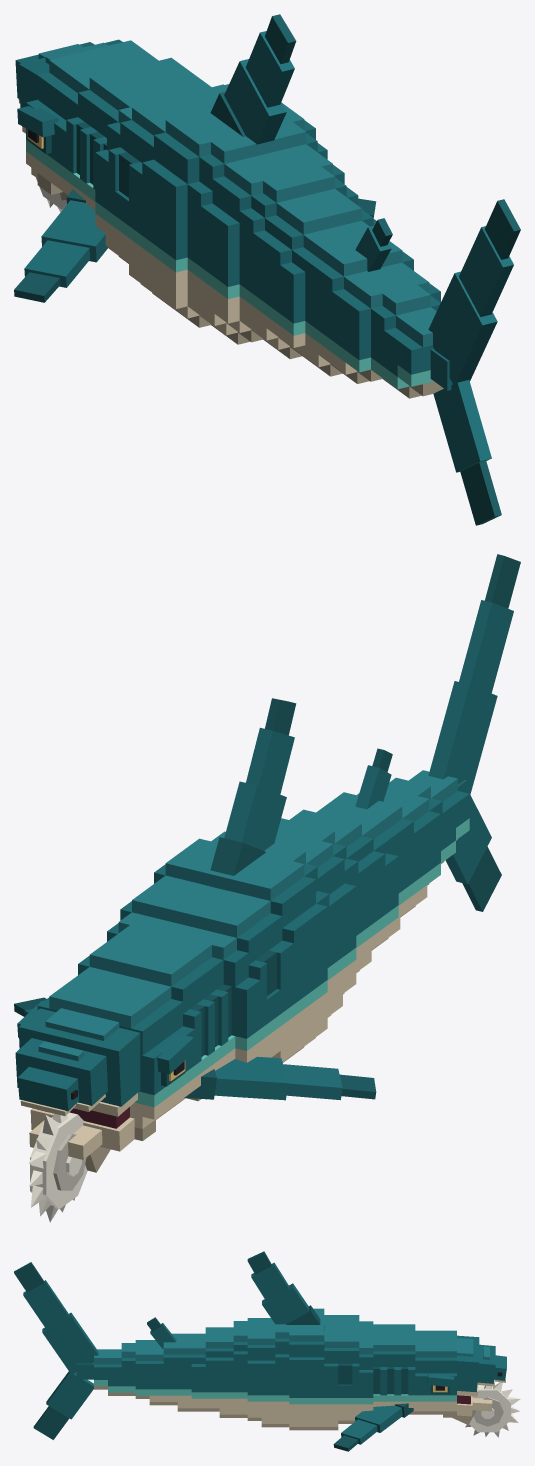
File: Helicoprion.obj
3 renders of one model, top to bottom at view 1: azimuth 30°, elevation 25°; view 2: azimuth 150°, elevation 25°; view 3: azimuth 270°, elevation 25°, orthographic. The views are drawn at different scales.
Parts seen in each view (by area): view 1: S4, Tail, S1, Head, S6, S5, S3, S7, S9, S8, S10, S11 (+1 smaller); view 2: Head, S4, S1, Tail, S3, S2, S9, S7, S6, S5, S8, S10 (+1 smaller); view 3: Head, S4, Tail, S1, S3, S5, S6, S7, S2, S9, S8, S10 (+1 smaller).
Boxes of the visible parts, x1,y1,x2,y2 form: S4: (142,14,327,327); Tail: (428,199,520,525); S1: (14,57,376,302); Head: (15,39,158,212); S6: (214,154,358,348); S5: (187,122,318,344); S3: (108,84,228,302); S7: (253,188,376,359); S9: (318,218,415,383); S8: (280,220,369,376); S10: (345,272,440,388); S11: (384,307,443,398); Head: (15,967,194,1222); S4: (154,698,327,1062); S1: (14,935,376,1108); Tail: (428,554,520,911); S3: (120,875,293,1061); S2: (107,912,260,1101); S9: (331,748,427,917); S7: (289,809,385,972); S6: (274,818,358,994); S5: (211,831,342,1017); S8: (316,802,400,950); S10: (357,777,442,885); Head: (415,1330,520,1437); S4: (247,1251,324,1430); Tail: (14,1262,98,1439); S1: (333,1324,415,1451); S3: (324,1315,359,1430); S5: (261,1318,289,1427); S6: (233,1318,261,1420); S7: (205,1327,233,1417); S2: (359,1321,387,1413); S9: (147,1317,177,1405); S8: (177,1333,205,1411); S10: (121,1340,149,1398).
Size of the model in its own units: 13.97 by 13.3 by 32.67.
1 material, 1 textured.
